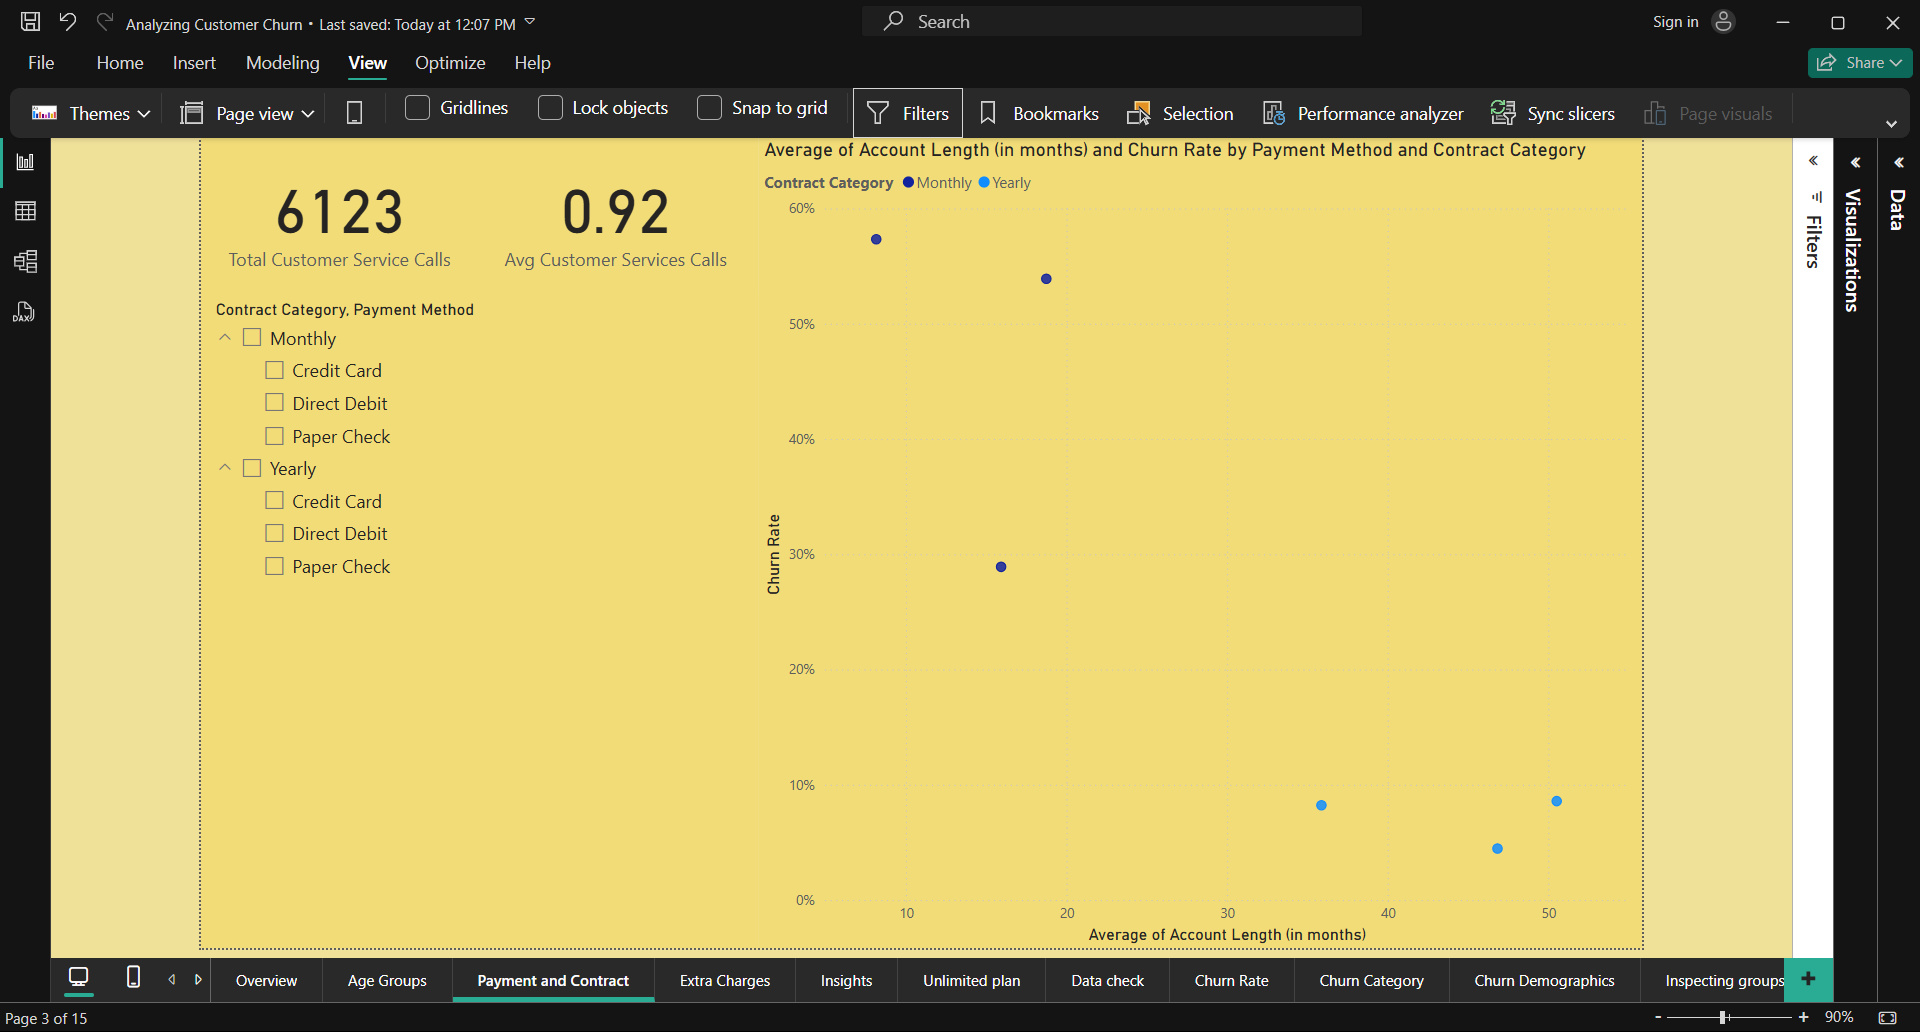

The page's visual inventory and layout, read from the dashboard file:
{"tool":"powerbi","page":{"name":"Payment and Contract","canvas":[1280,720],"ordinal":2},"visuals":[{"type":"card","fields":{"Values":["Sum(Databel - Data.Customer Service Calls)"]},"box":[0,0,246.5,138.8],"z":0},{"type":"card","fields":{"Values":["Databel - Data.Avg Customer Services Calls"]},"box":[241.9,0,252.9,138.8],"z":1000},{"type":"scatterChart","fields":{"Category":["Databel - Data.Payment Method"],"X":["Databel - Data.Account Length (in months)"],"Y":["Databel - Data.Churn Rate"],"Series":["Databel - Data.Contract Category"]},"box":[495.3,0,785.1,720.7],"z":2000},{"type":"slicer","fields":{"Values":["Databel - Data.Contract Category","Databel - Data.Payment Method"]},"box":[0,138.8,494.9,581.5],"z":3000}]}

Visuals, with their boxes on the page's 1280x720 design canvas (x1, y1, x2, y2). These are canvas units, not pixel positions in the 1920x1032 screenshot, which may show the page scaled, cropped or inside an application window:
card - Sum(Databel - Data.Customer Service Calls): BBox(0, 0, 246, 139)
card - Databel - Data.Avg Customer Services Calls: BBox(242, 0, 495, 139)
scatterChart - Databel - Data.Payment Method x Databel - Data.Account Length (in months): BBox(495, 0, 1280, 721)
slicer - Databel - Data.Contract Category x Databel - Data.Payment Method: BBox(0, 139, 495, 720)
